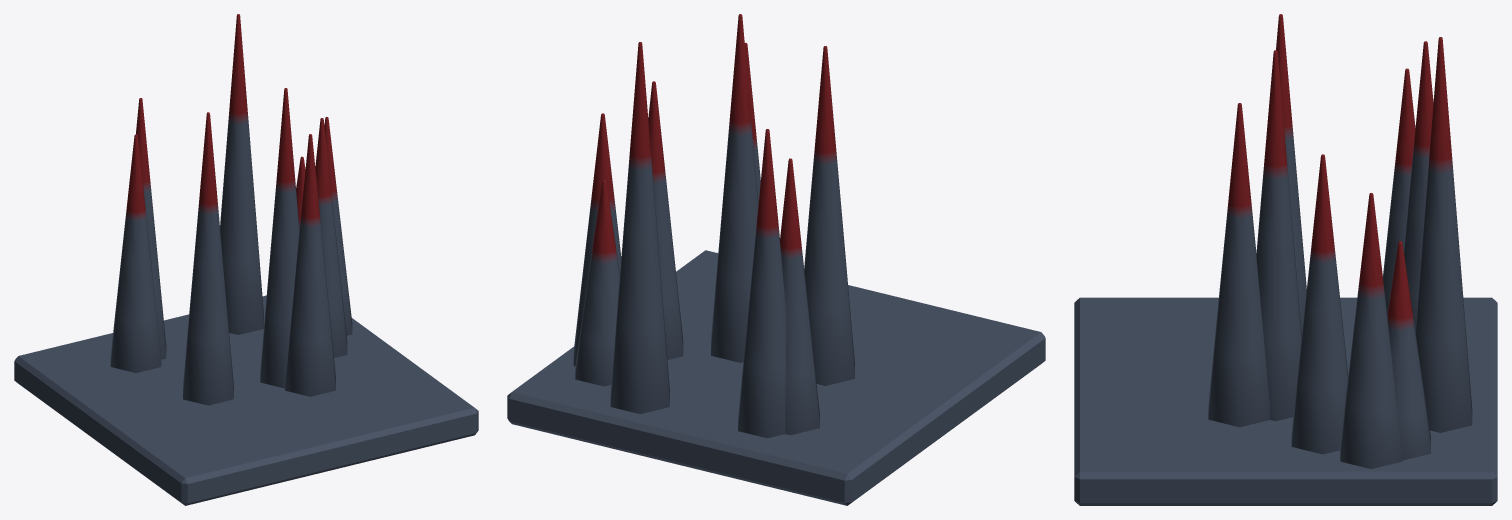
Rendered from prop_spikes3_7173.glb.
The picture shows the model from 3 angles, left to right: view 1: azimuth 30°, elevation 25°; view 2: azimuth 150°, elevation 25°; view 3: azimuth 270°, elevation 25°; orthographic projection. The views are drawn at different scales.
Visible parts, largest first — view 1: prop_spikes3_7173; view 2: prop_spikes3_7173; view 3: prop_spikes3_7173.
Part boxes in pixels (<box>): prop_spikes3_7173: <box>14,14,478,505</box>; prop_spikes3_7173: <box>507,14,1045,505</box>; prop_spikes3_7173: <box>1074,14,1497,505</box>.
Bounding box in the file's own units: 0.7954 × 0.8862 × 0.7954.
1 material, 1 textured.
